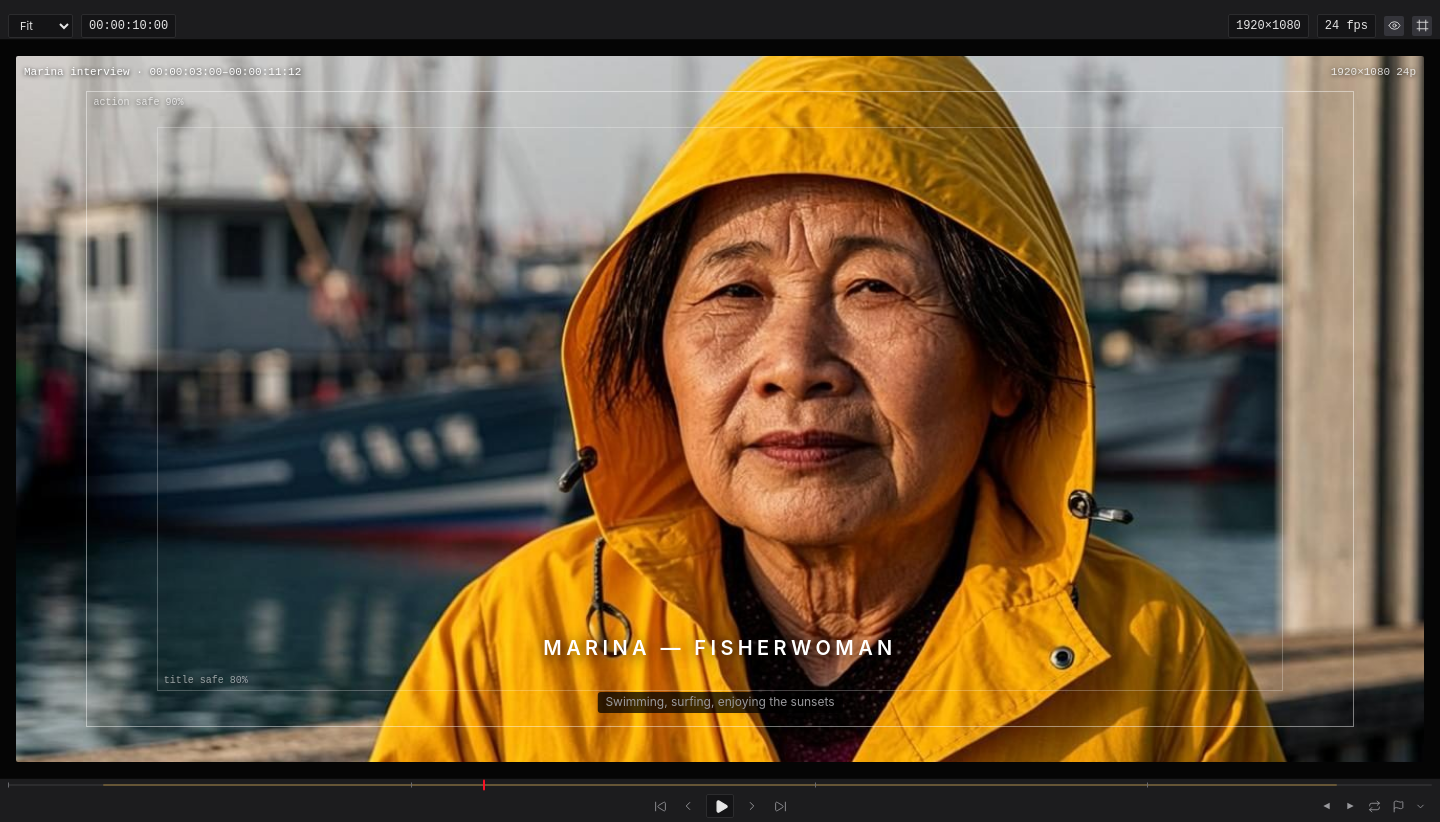
Test: Viewer (spec 18 §4.3) › Eye toggle hides the in-canvas overlays (store pref, §4.3 viewer-toolbar)
expect the text "Marina interview · 00:00:03:00–00:00:11:12" is shown: met, box [24, 64, 301, 80]
expect the text "MARINA — FISHERWOMAN" is shown: met, box [543, 636, 897, 660]
Click the button named "Toggle in-canvas overlays" at (1394, 26), box [1384, 16, 1404, 36]
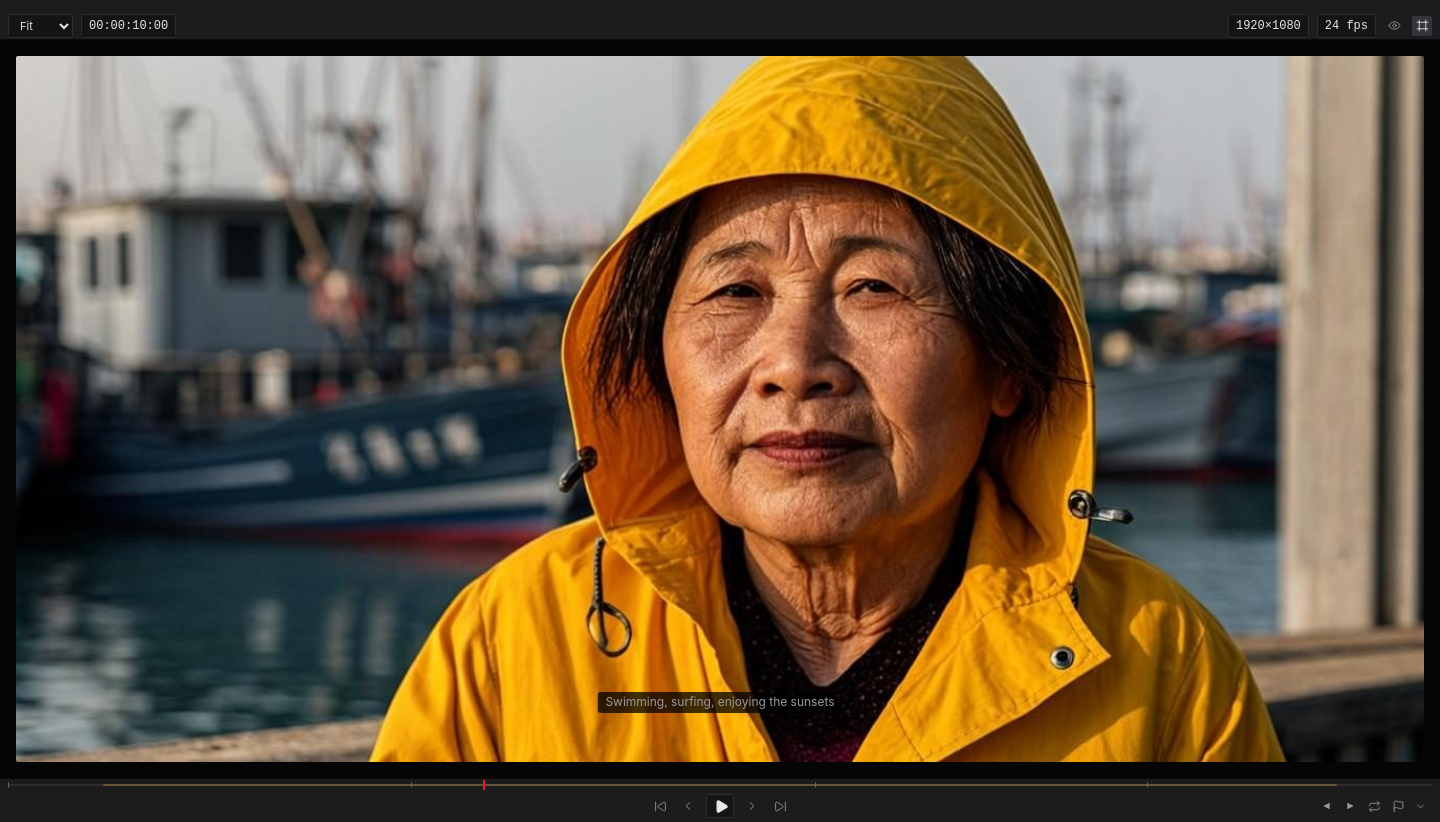
expect the text "Marina interview · 00:00:03:00" is gone: met
expect the text "MARINA — FISHERWOMAN" is gone: met
expect the element with test id "shell-viewer-safe-guides" is gone: met
